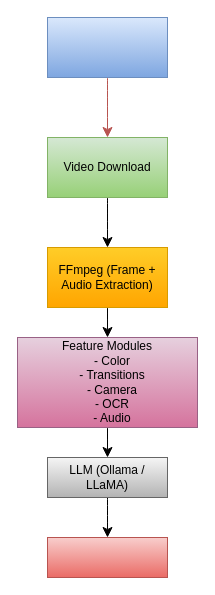
The diagram is 215 pixels wide and 595 high, and some of its shapes have lost their labels. The shapes that lost their labels are listed below. From the top down, each one's centre as x and y in pixels, then its label:
At point 107,47: "User (YouTube URL)".
At point 107,557: "Export (SVG / Figma)".
